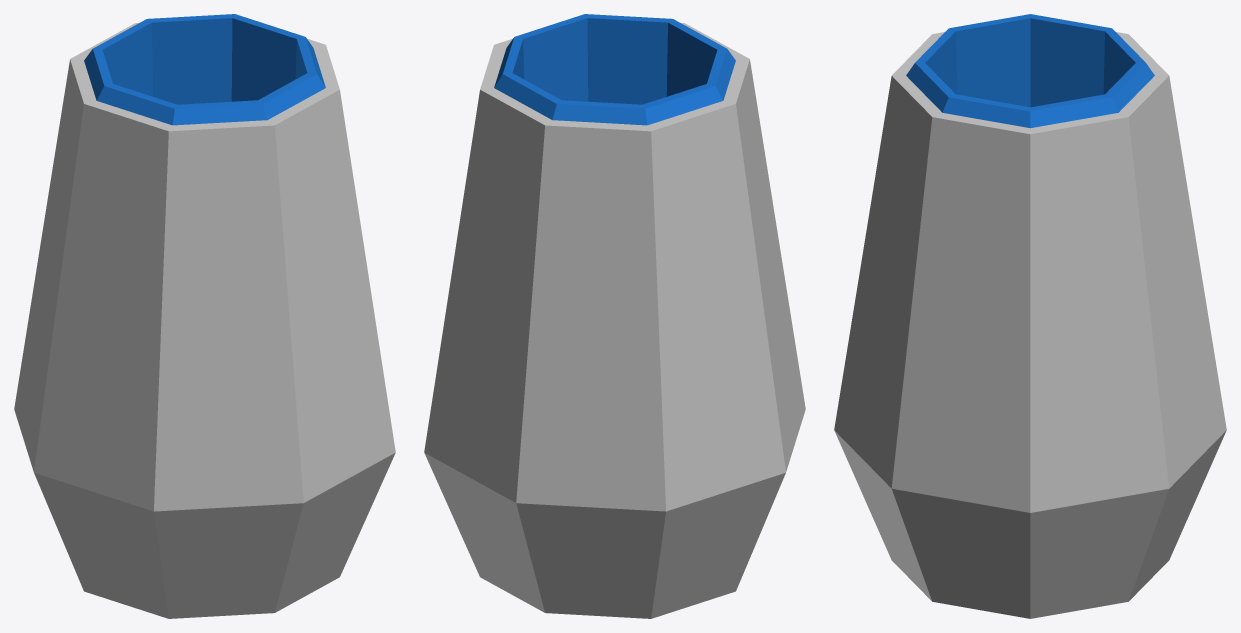
Rendered from space_flower_pot_13.fbx.
The picture shows the model from 3 angles, left to right: view 1: azimuth 30°, elevation 25°; view 2: azimuth 150°, elevation 25°; view 3: azimuth 270°, elevation 25°; orthographic projection.
Parts seen in each view (by area): view 1: Sphere_1; view 2: Sphere_1; view 3: Sphere_1.
Boxes of the visible parts, bbox=[...] form: Sphere_1: bbox=[14, 14, 395, 618]; Sphere_1: bbox=[424, 14, 805, 618]; Sphere_1: bbox=[834, 14, 1226, 618].
Size of the model in its own units: 30.8 by 43.05 by 30.8.
